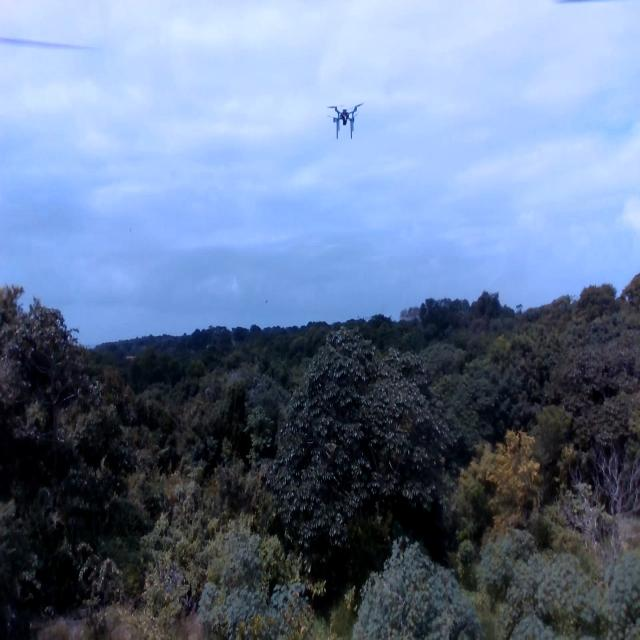-uav-: (325, 88, 368, 146)
